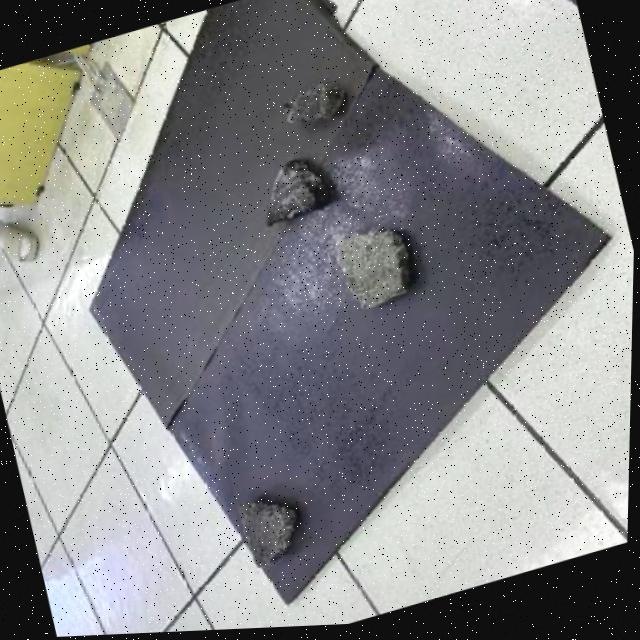Road Debris: (324, 216, 423, 321), (252, 158, 321, 225), (277, 81, 355, 137), (239, 499, 296, 566)
